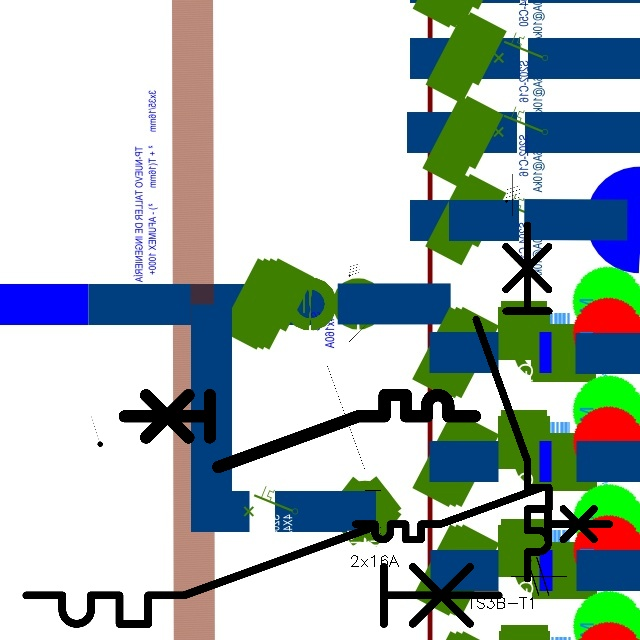interruptor_termomagnetico: (14, 515, 510, 636), (467, 216, 558, 588), (115, 386, 483, 476), (320, 286, 388, 565), (349, 481, 616, 546)
